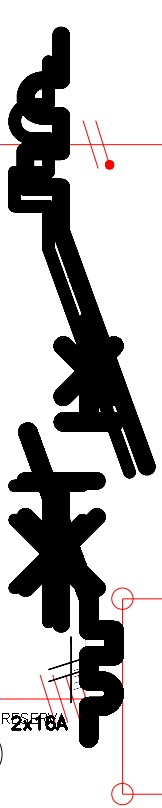interruptor_termomagnetico: (10, 20, 161, 639), (0, 47, 144, 636), (17, 309, 125, 749)
